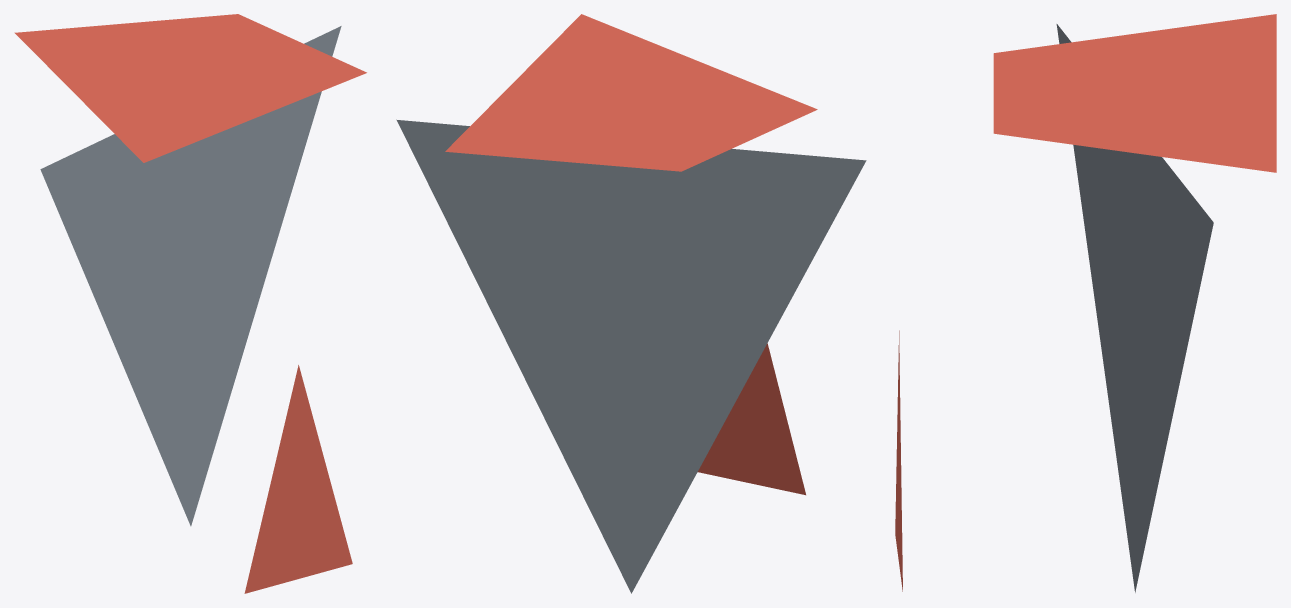
The model's file is SU_TeslaTower_LOD2.glb.
3 renders of one model, left to right at view 1: azimuth 30°, elevation 25°; view 2: azimuth 150°, elevation 25°; view 3: azimuth 270°, elevation 25°, orthographic. The views are drawn at different scales.
Parts seen in each view (by area): view 1: EntranceGate; view 2: EntranceGate; view 3: EntranceGate.
Boxes of the visible parts, box(x1,y1,x2,y2) form: EntranceGate: box(14, 14, 366, 593); EntranceGate: box(396, 14, 866, 593); EntranceGate: box(895, 14, 1276, 592).
Size of the model in its own units: 400 by 486 by 323.
